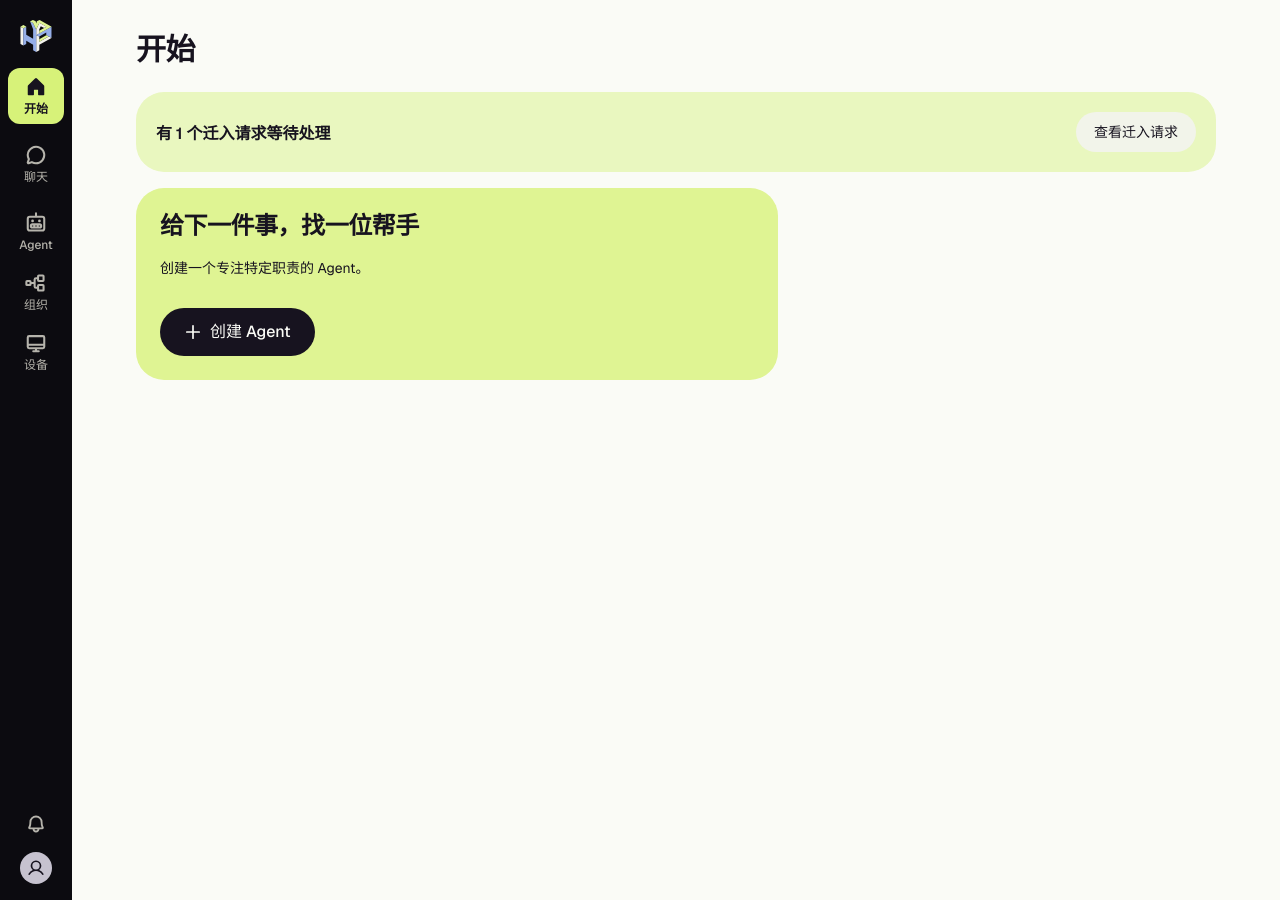
Test case: 拓扑：通信视图 › 只显示路由约定（静态），不再渲染 link 层；点边打开 Inspect，返回后焦点回到这条边
Click the button "组织" at (36, 292), box [8,264,64,320]
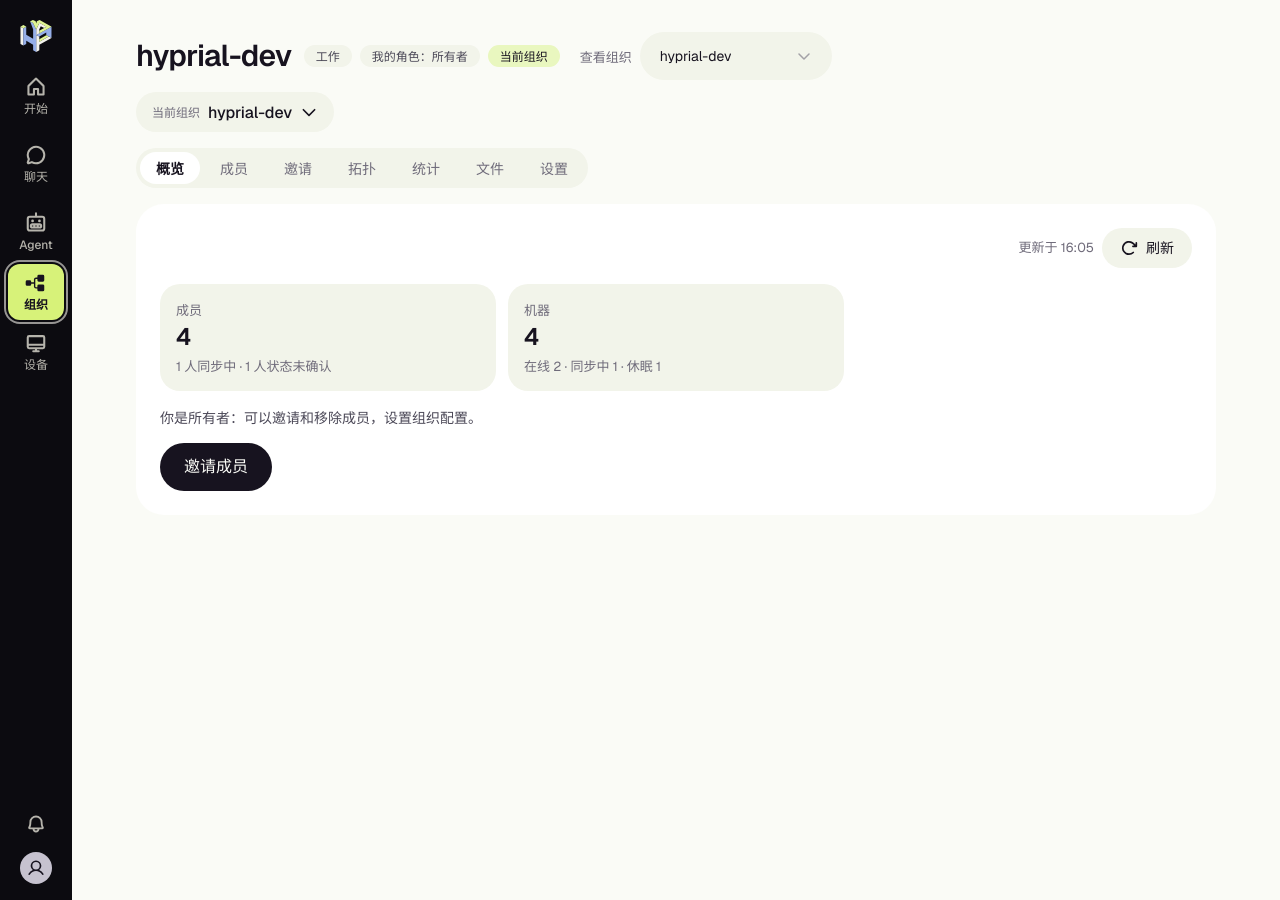
Click the tab "拓扑" at (362, 168), box [332,152,392,184]
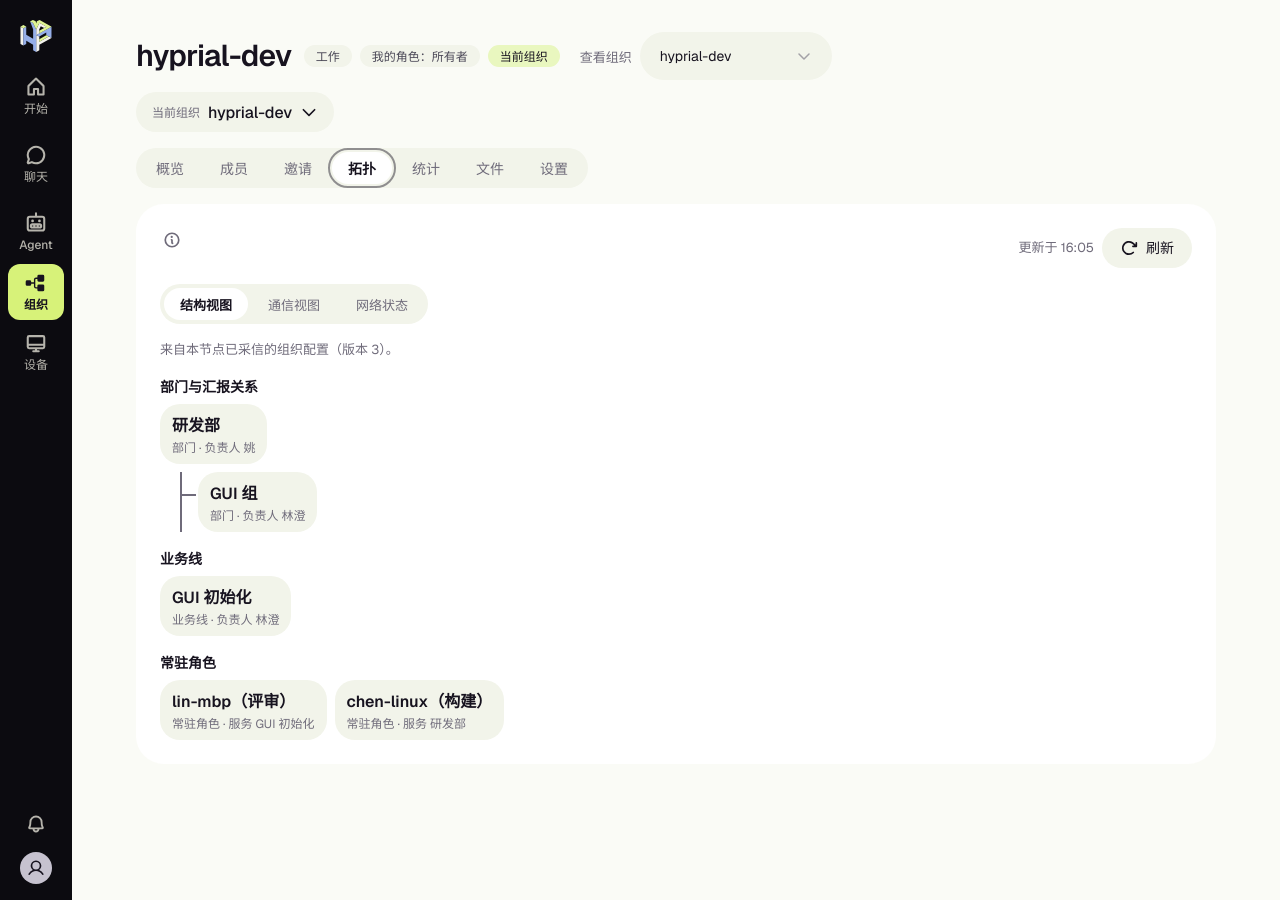
Click the tab "通信视图" at (294, 304), box [252,288,336,320]
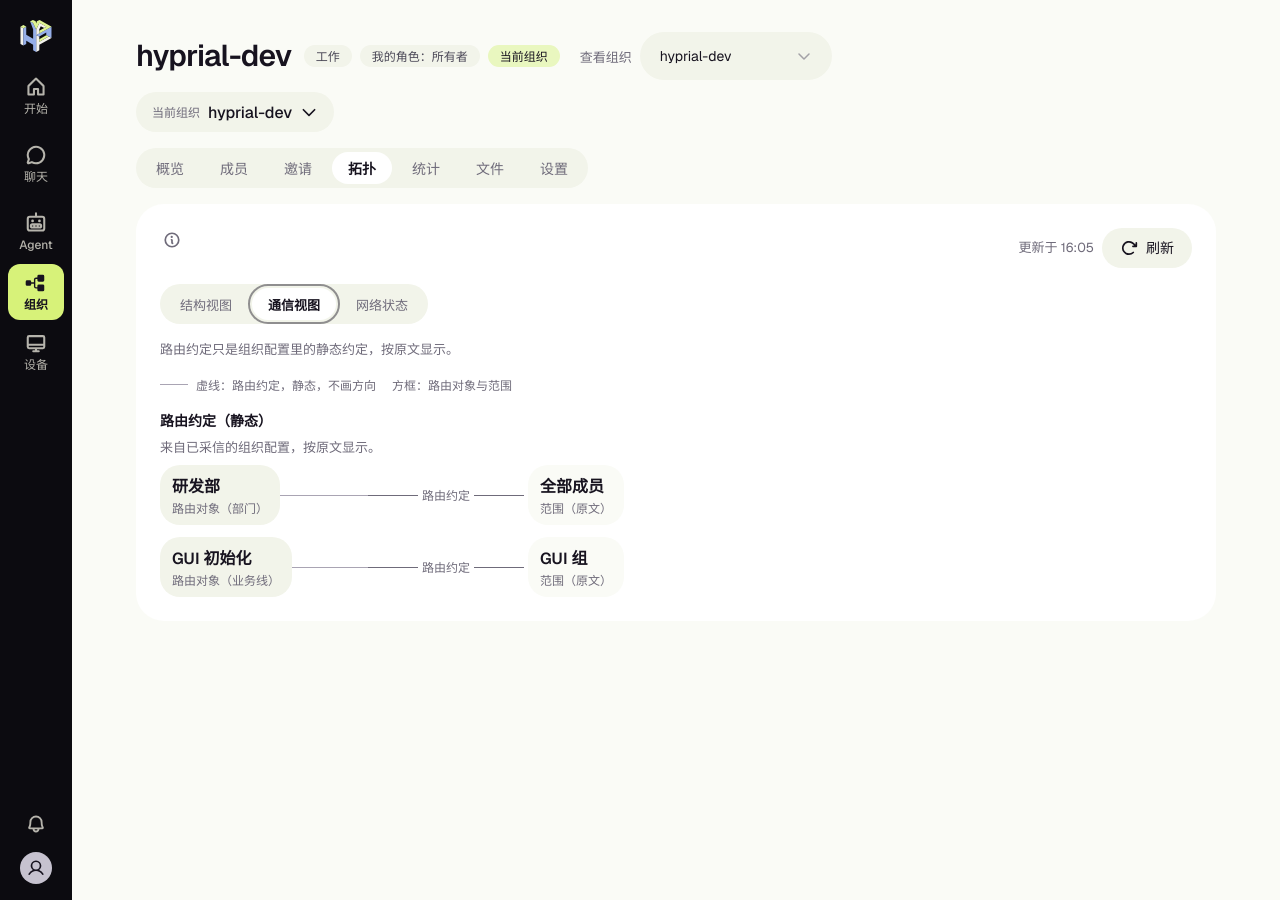
Check: the list named "图例" does not show "实线箭头：link", box [196,378,512,394]
Check: the tab "通信视图" is selected, box [252,288,336,320]
Click the button with aria-label "路由约定：部门 · 研发部，范围：全部成员" at (448, 495), box [368,473,528,517]
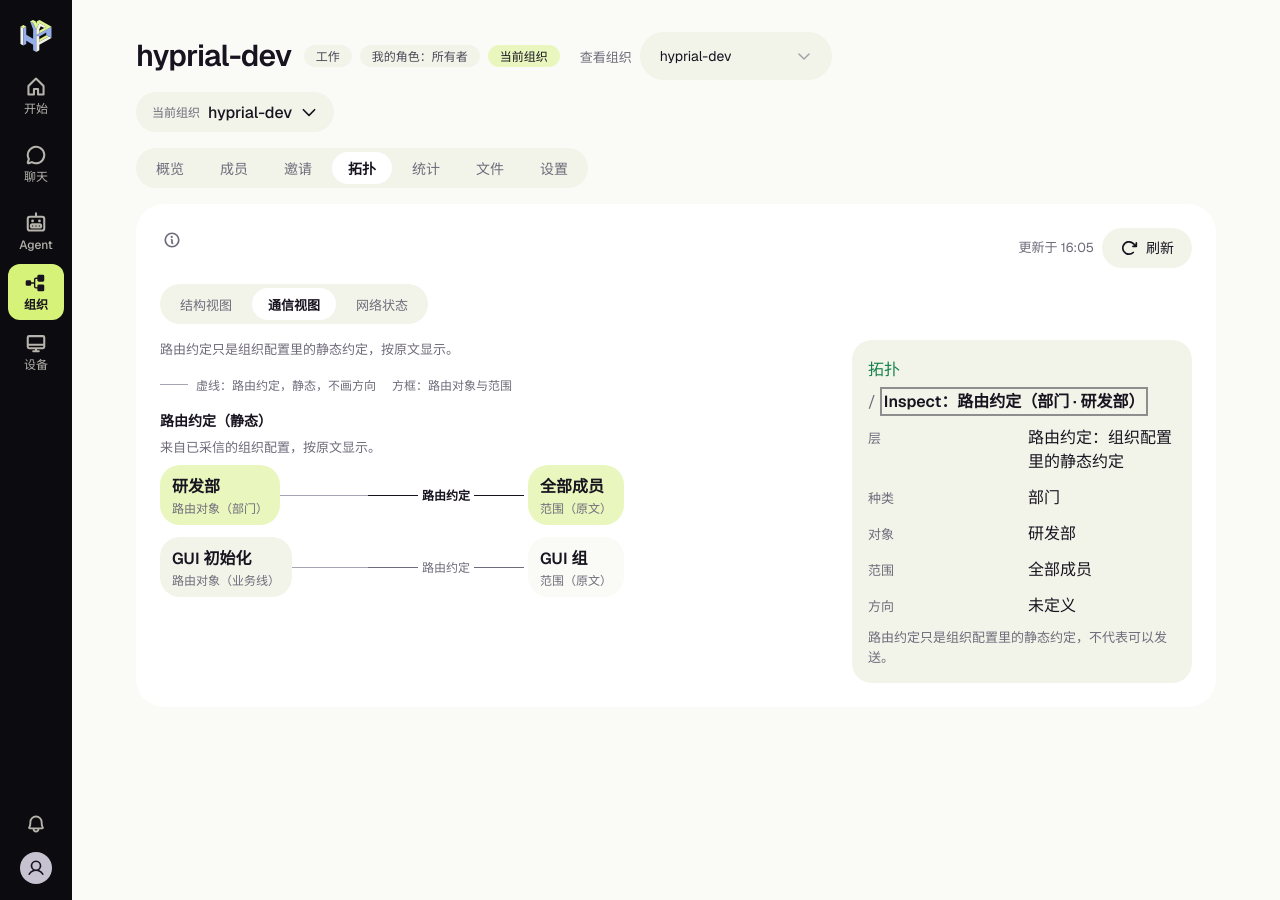
Check: the text "全部成员" below "来自已采信的组织配置，按原文显示。" is shown, box [540,476,604,497]
Check: the text "未定义" is shown, box [1028,595,1076,616]
Check: the element "Inspect：路由约定（部门 · 研发部）" shows "路由约定只是组织配置里的静态约定，不代表可以发送。", box [868,629,1167,666]
Click the link "拓扑" at (884, 370), box [868,359,900,380]
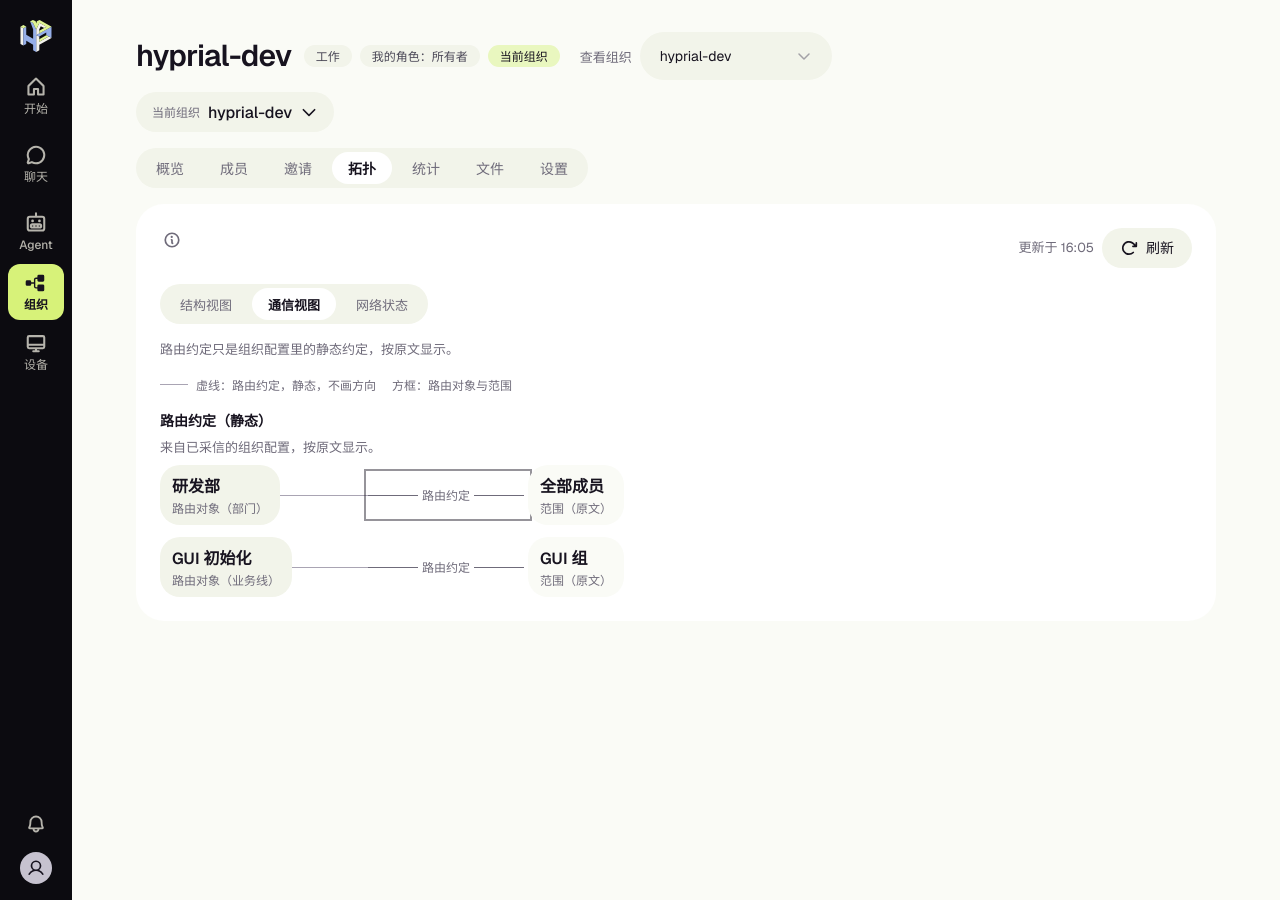
Check: the heading "Inspect：" is gone
